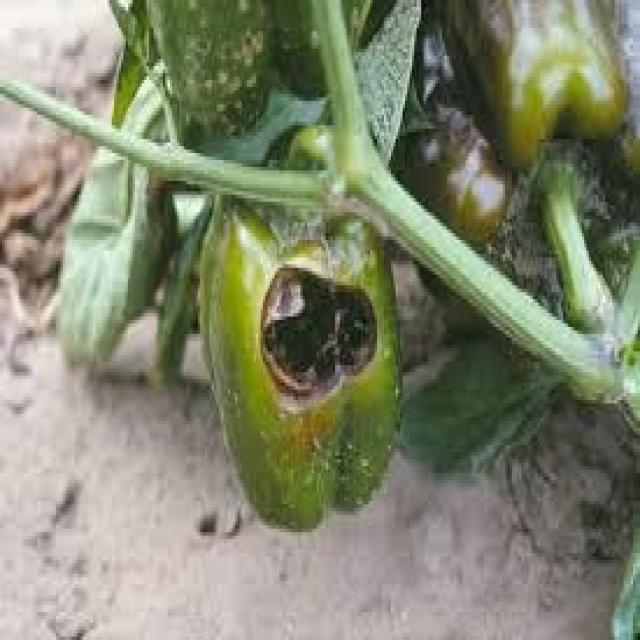Wet Waste: (201, 181, 405, 532)
